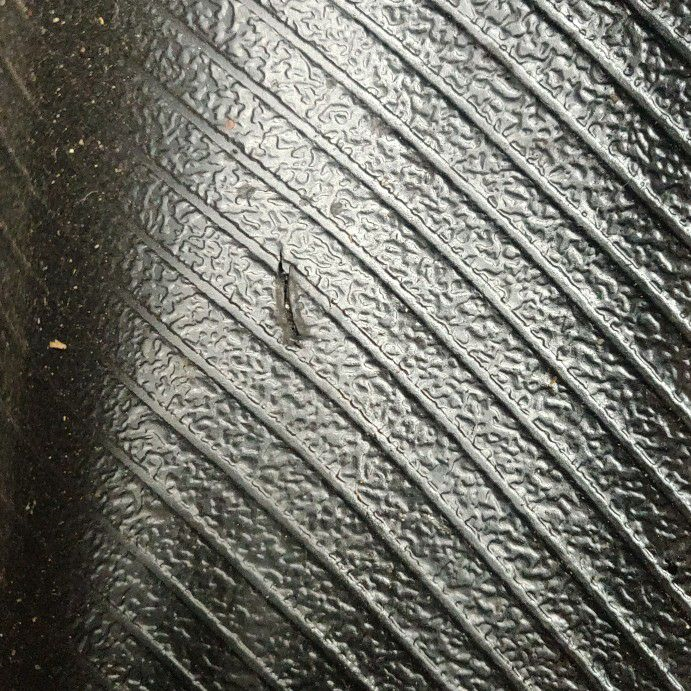cut: (273, 262, 313, 345)
